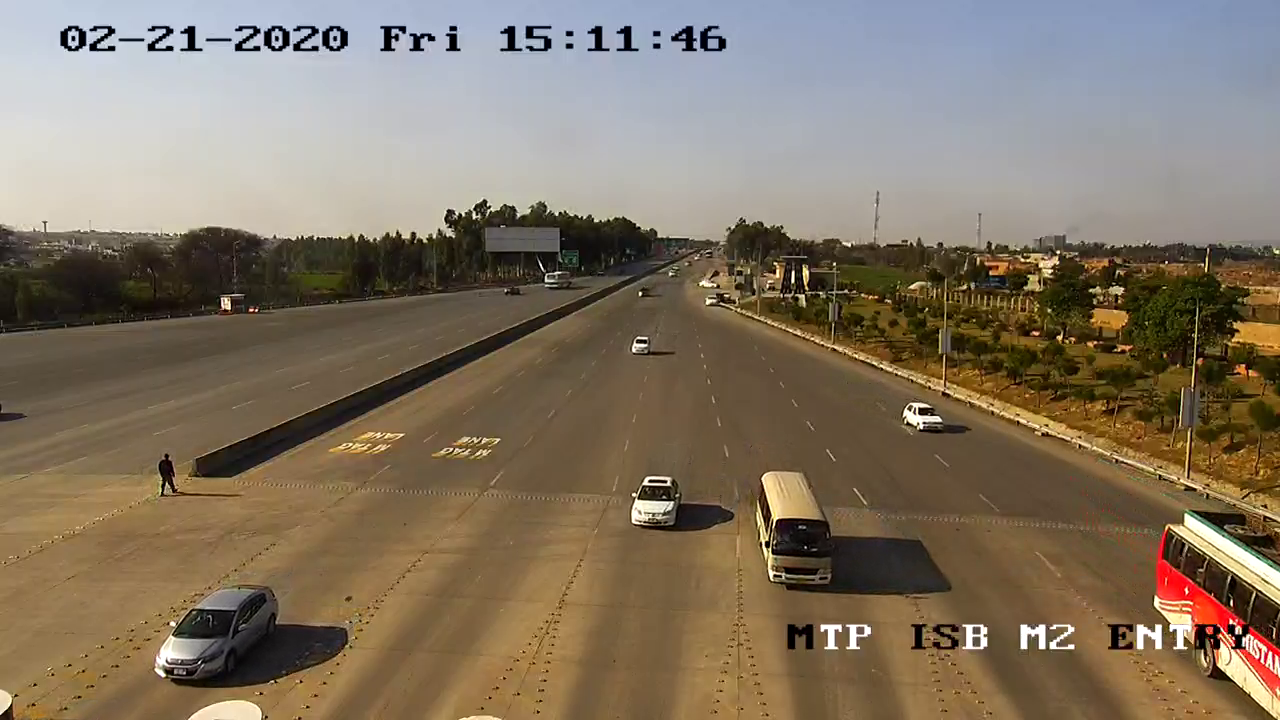f1: (148, 575, 287, 691), (626, 469, 686, 541)
f3: (747, 464, 844, 600)
